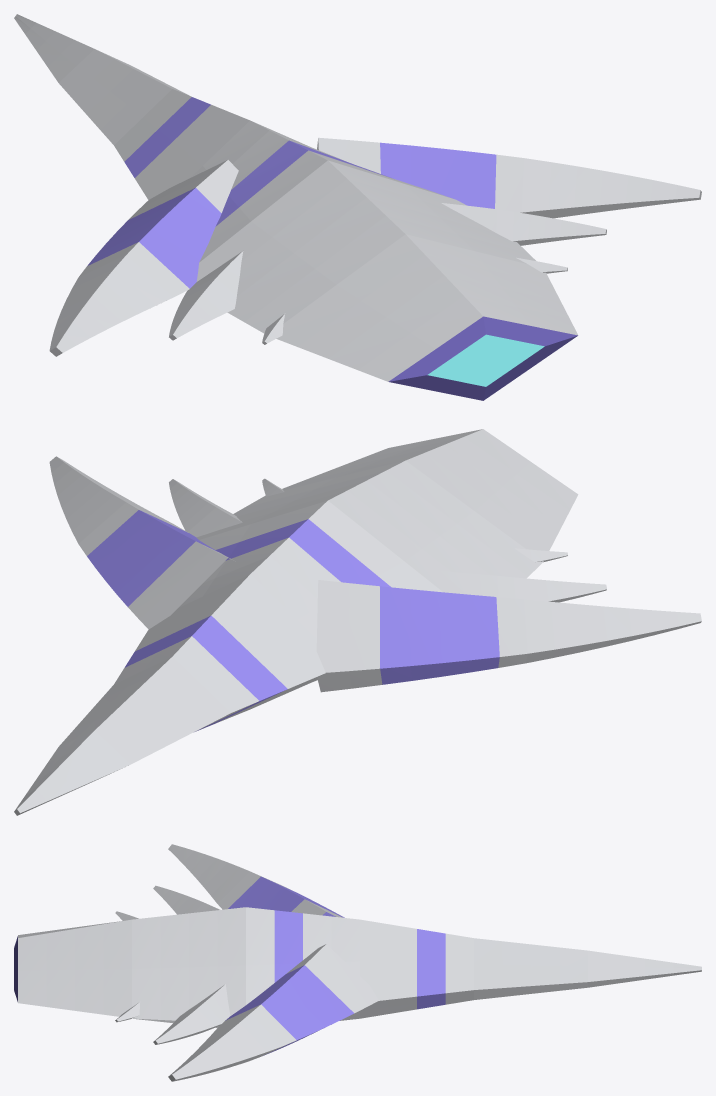
File: axiom_ca.glb
3 renders of one model, top to bottom at view 1: azimuth 30°, elevation 25°; view 2: azimuth 150°, elevation 25°; view 3: azimuth 270°, elevation 25°, orthographic. The views are drawn at different scales.
Visible parts, largest first — view 1: hull_mesh, limb_0_mesh, limb_0_port_mesh, limb_0_1_port_mesh, limb_0_1_mesh; view 2: hull_mesh, limb_0_mesh, limb_0_port_mesh, limb_0_1_mesh, limb_0_1_port_mesh; view 3: hull_mesh, limb_0_port_mesh, limb_0_mesh, limb_0_1_port_mesh, limb_0_1_mesh.
Boxes of the visible parts, x1,y1,x2,y2 form: hull_mesh: [14, 14, 578, 400]; limb_0_mesh: [49, 160, 238, 356]; limb_0_port_mesh: [317, 137, 701, 218]; limb_0_1_port_mesh: [441, 203, 606, 245]; limb_0_1_mesh: [169, 251, 243, 340]; hull_mesh: [14, 429, 578, 815]; limb_0_mesh: [316, 580, 701, 692]; limb_0_port_mesh: [49, 456, 235, 629]; limb_0_1_mesh: [440, 571, 606, 602]; limb_0_1_port_mesh: [169, 479, 242, 537]; hull_mesh: [14, 907, 701, 1027]; limb_0_port_mesh: [168, 944, 378, 1081]; limb_0_mesh: [168, 844, 344, 917]; limb_0_1_port_mesh: [153, 984, 230, 1044]; limb_0_1_mesh: [153, 885, 220, 914].
Size of the model in its own units: 103 by 25.6 by 129.
